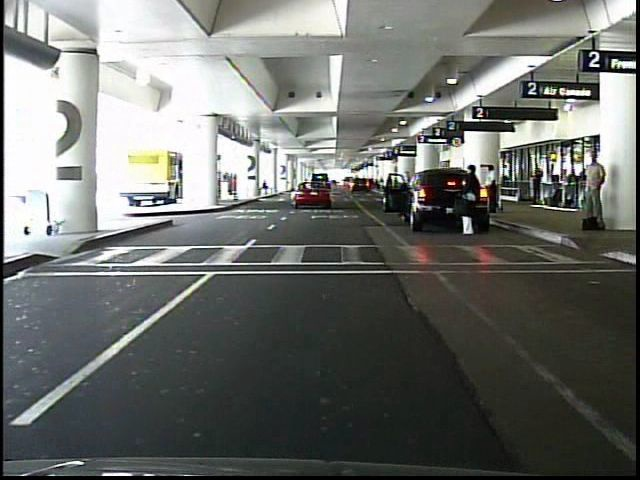person: (458, 165, 480, 238), (483, 163, 500, 213), (530, 162, 543, 203)
